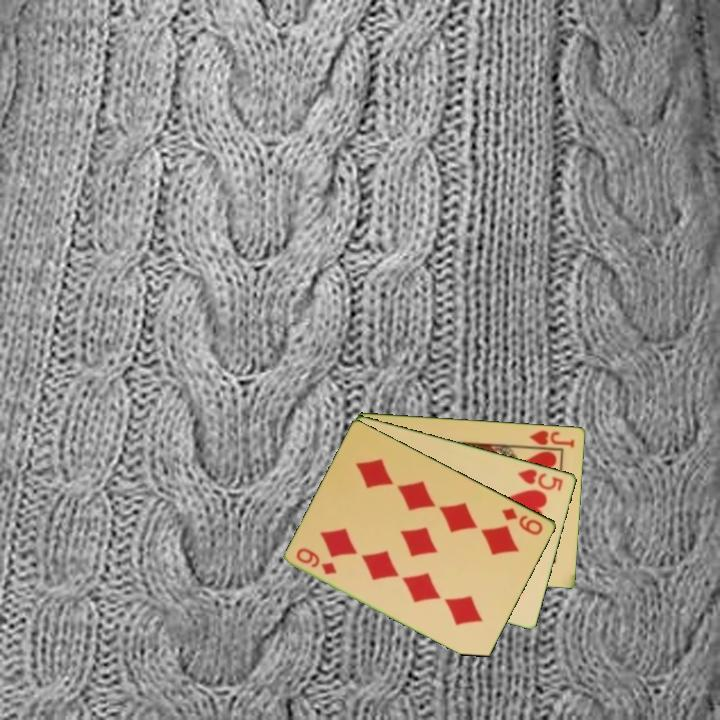5h: (514, 465, 566, 494)
9d: (499, 504, 546, 538), (293, 544, 340, 578)
Jh: (526, 427, 578, 450)
